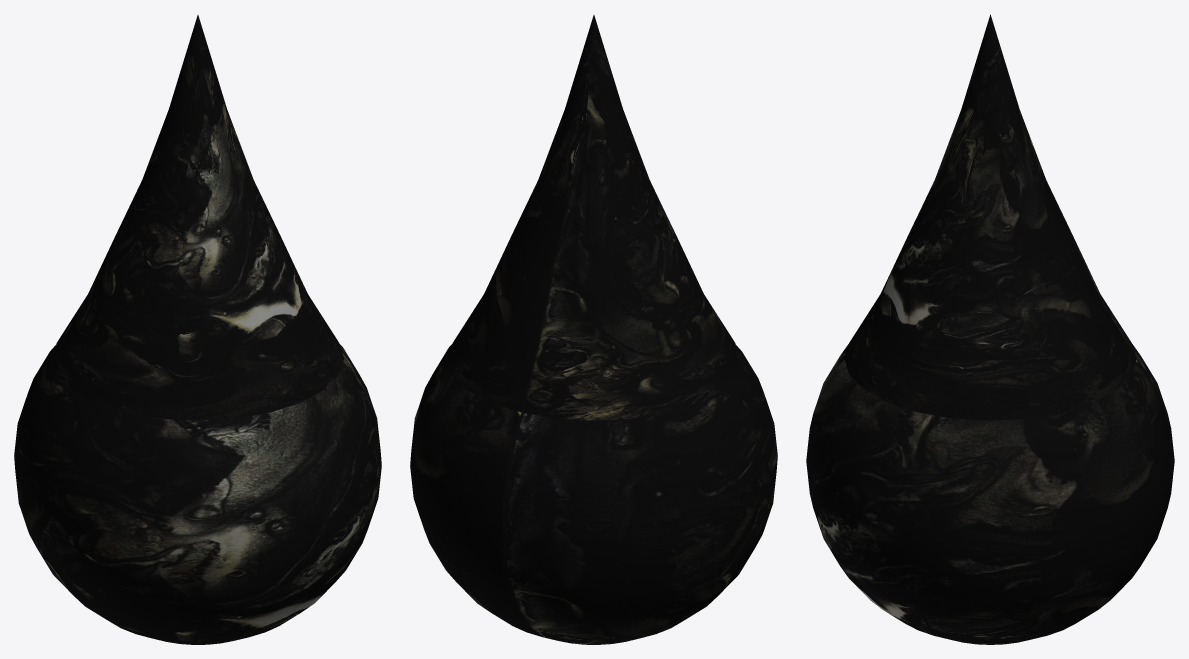
Rendered from Gota de petroleo.FBX.
3 renders of one model, left to right at view 1: azimuth 30°, elevation 25°; view 2: azimuth 150°, elevation 25°; view 3: azimuth 270°, elevation 25°, orthographic.
Parts seen in each view (by area): view 1: Sphere001; view 2: Sphere001; view 3: Sphere001.
Part boxes in pixels (bbox=[...]): Sphere001: bbox=[14, 15, 381, 644]; Sphere001: bbox=[410, 15, 777, 644]; Sphere001: bbox=[806, 14, 1174, 644].
Size of the model in its own units: 48.63 by 89.39 by 48.63.
1 material, 1 textured.
